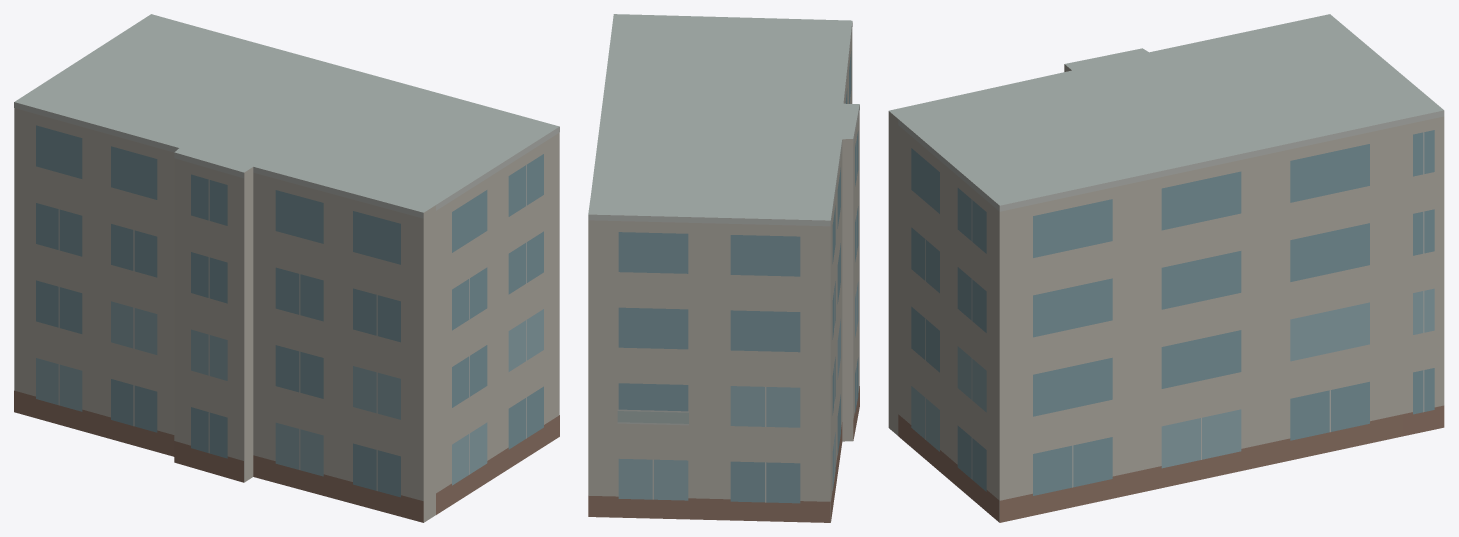
The model's file is survey-upis-32784095.glb.
3 renders of one model, left to right at view 1: azimuth 30°, elevation 25°; view 2: azimuth 150°, elevation 25°; view 3: azimuth 270°, elevation 25°, orthographic. The views are drawn at different scales.
Visible parts, largest first — view 1: survey-upis-32784095.tmp; view 2: survey-upis-32784095.tmp; view 3: survey-upis-32784095.tmp.
Part boxes in pixels (bbox=[...]): survey-upis-32784095.tmp: bbox=[14, 14, 559, 522]; survey-upis-32784095.tmp: bbox=[588, 14, 859, 522]; survey-upis-32784095.tmp: bbox=[888, 14, 1444, 522].
Bounding box in the file's own units: 16.6 × 12.8 × 20.34.
